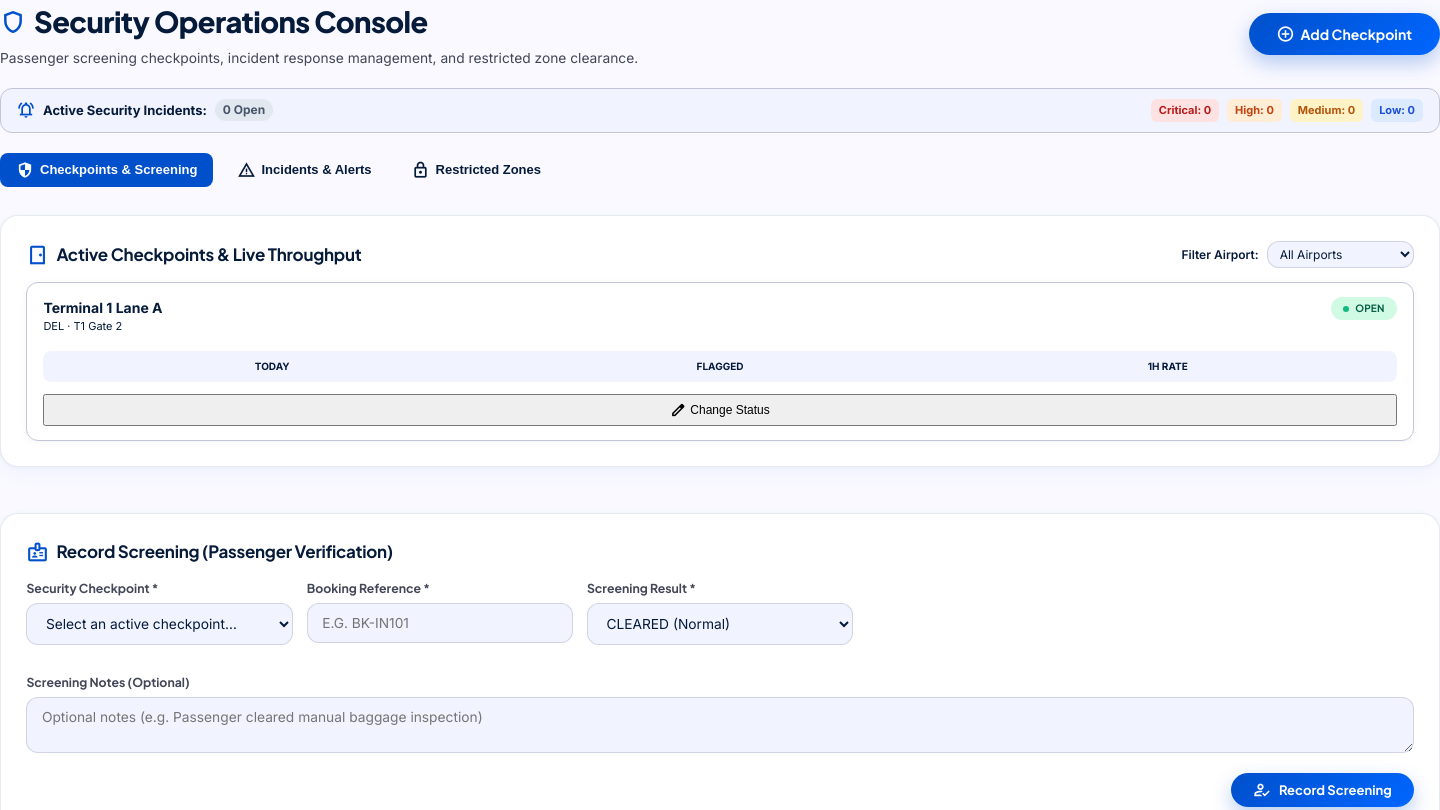
Test: Task 16c Part B: Admin Pages Dialogs & Action Buttons (RTL + jsdom) › 1. Security Console Modals (Add Checkpoint & Change Status) › opens and closes Change Status dialog upon clicking Change Status button
expect the text "Terminal 1 Lane A" is shown: met, box [43,297,162,318]
Click the button "Change Status". click: [720, 410]
box: [43,394,1397,426]
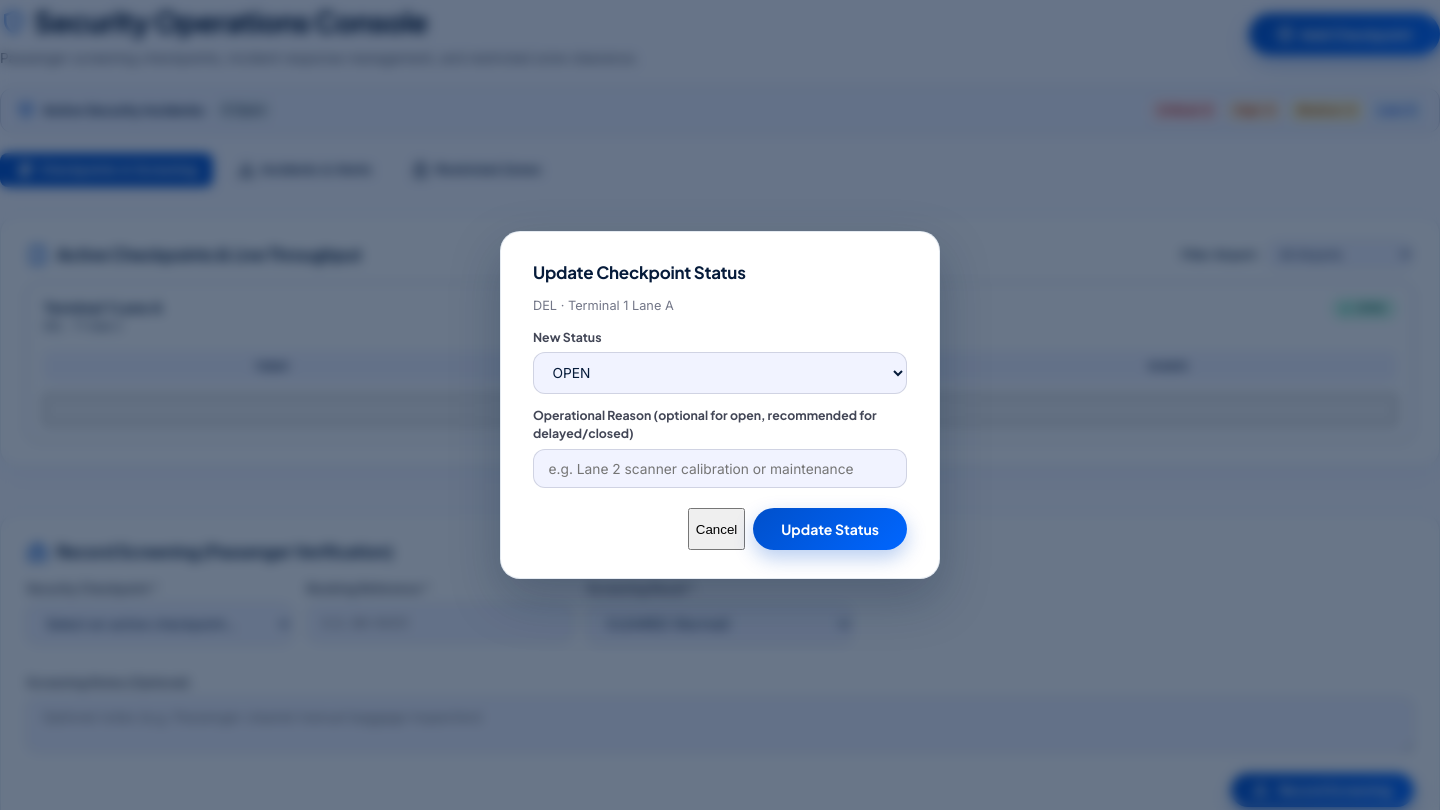
expect the heading "Update Checkpoint Status" is shown: met, box [533,261,746,283]
Note: Cancel closes
Click the button "Cancel". click: [717, 529]
box: [688,508,745,550]
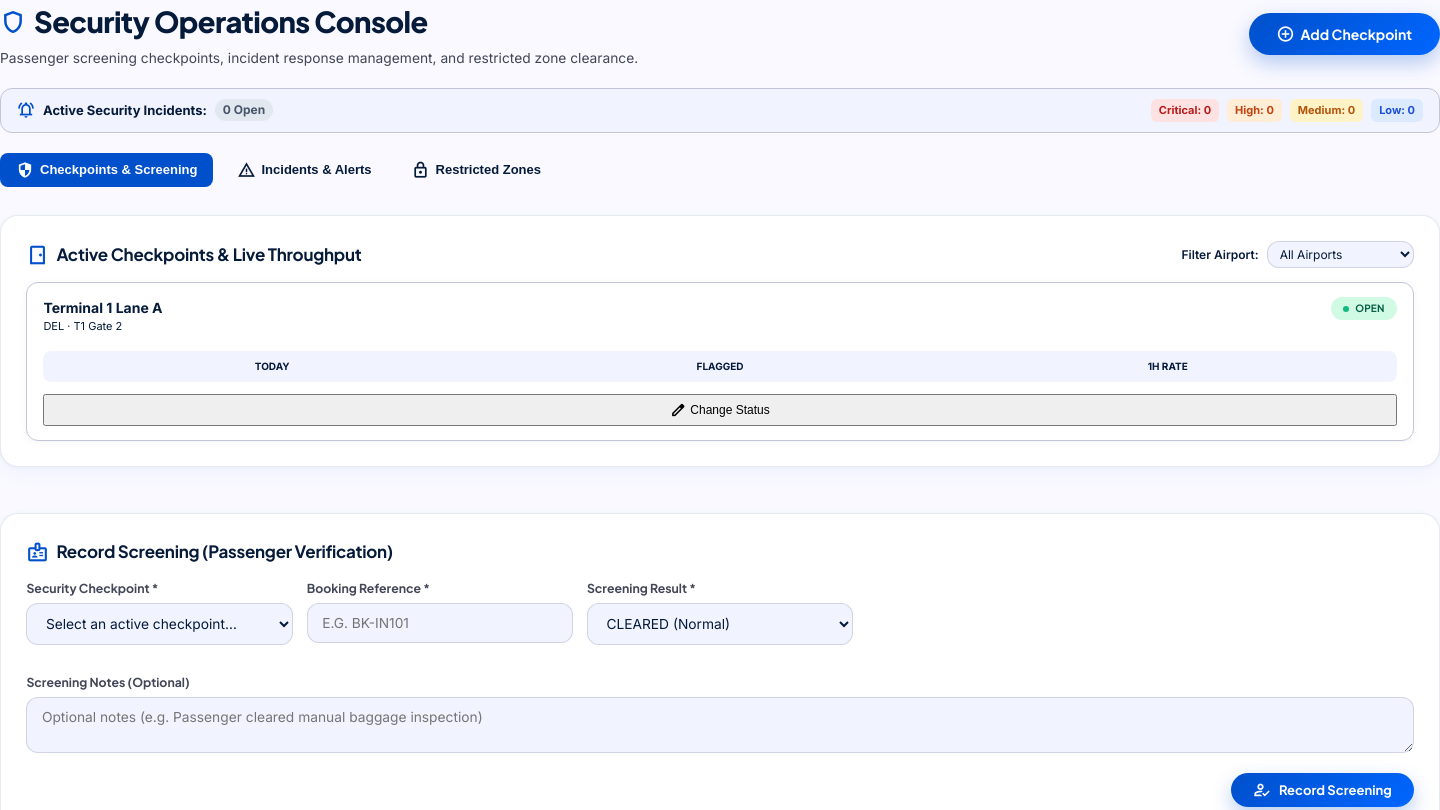
expect the heading "Update Checkpoint Status" is gone: met
